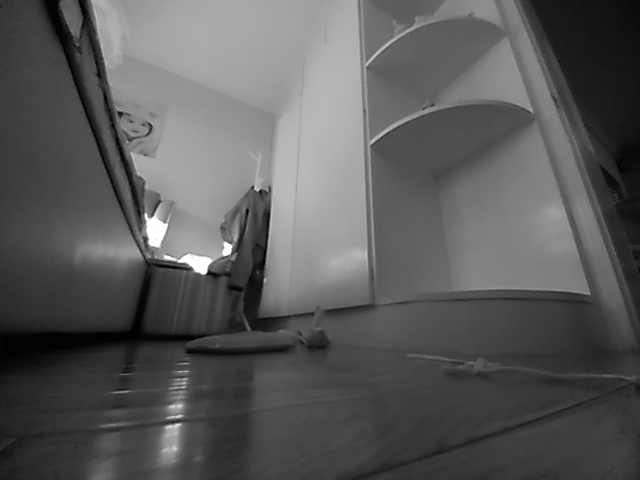others: (184, 326, 301, 358)
wire: (402, 349, 640, 389)
